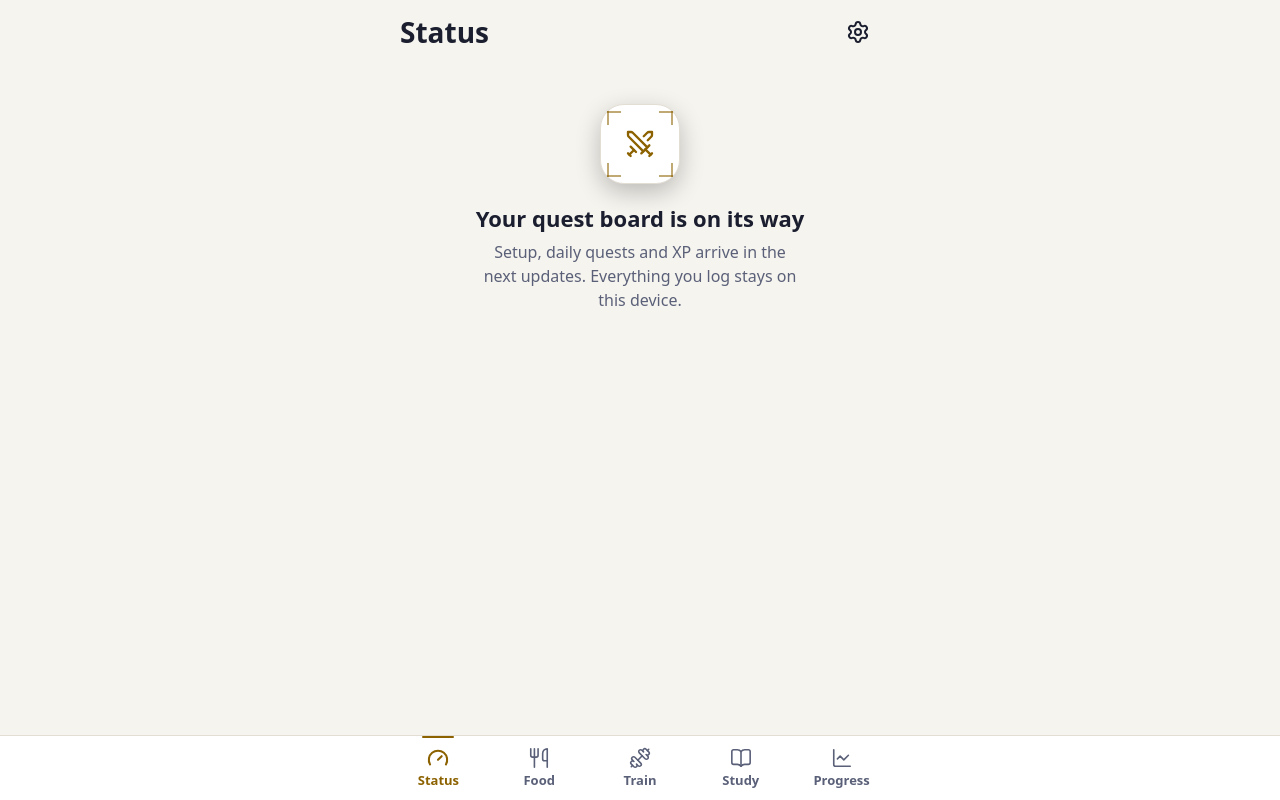
Test: app shell › navigates to Train and shows its designed empty state
Click the link "Train". click: (640, 768)
box: [624,747,656,789]
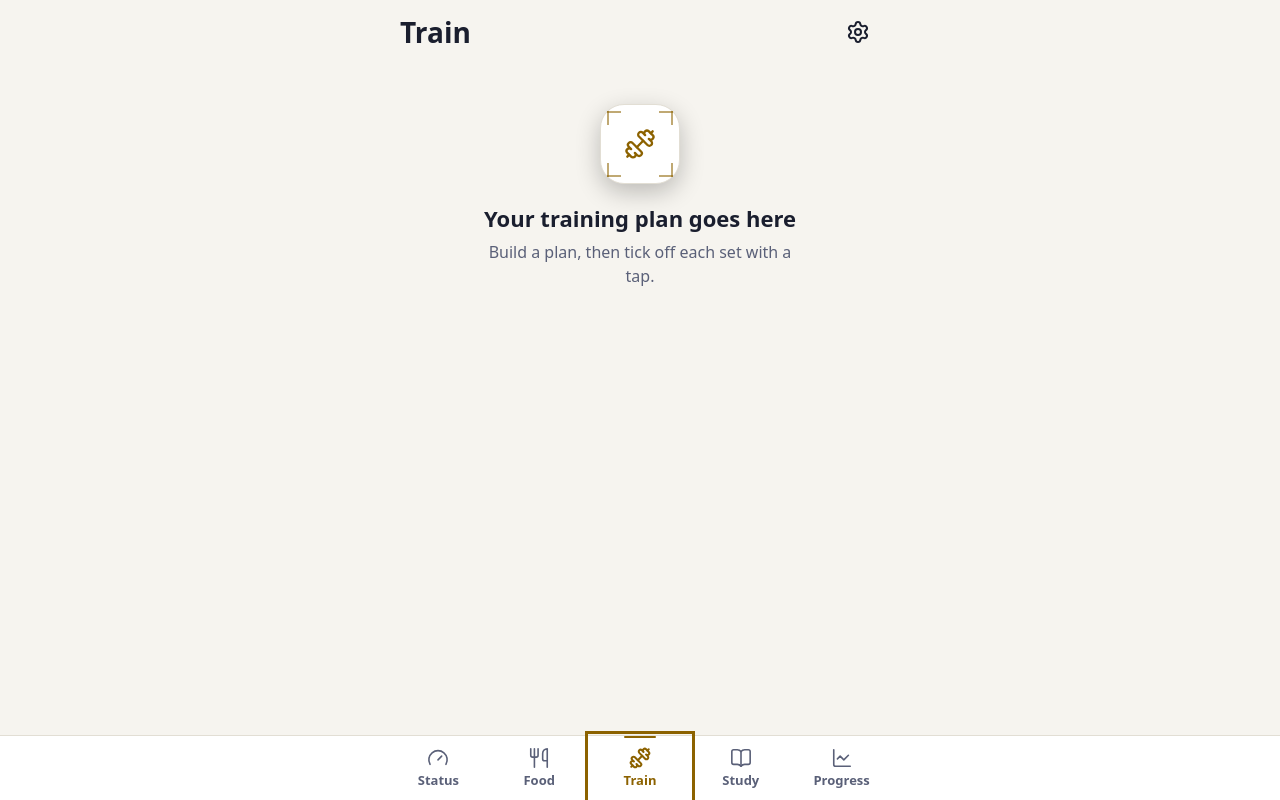
Expected: the heading "Train" is shown, [400,13,471,51]
Expected: the heading "Your training plan goes here" is shown, [484,204,796,232]
